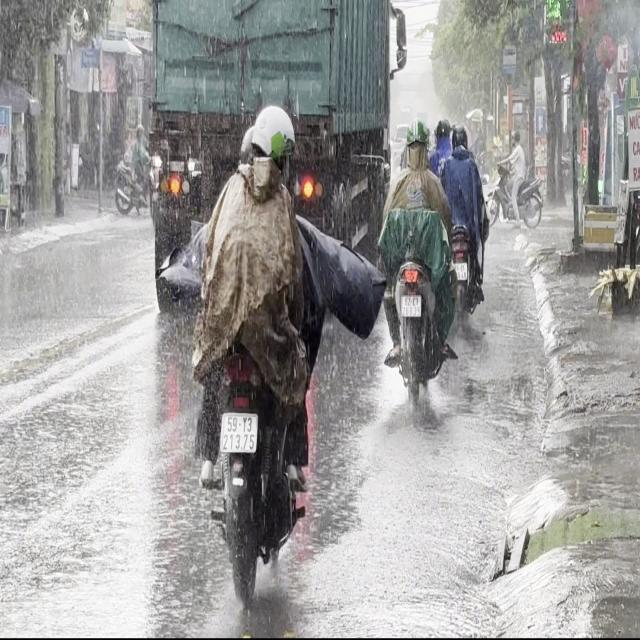helmet: (244, 103, 299, 199), (404, 117, 429, 164), (451, 122, 468, 150), (435, 116, 451, 144)
licenseplate: (188, 94, 376, 617), (374, 112, 456, 408), (438, 118, 488, 322)
nohelmet: (220, 413, 257, 452), (400, 294, 420, 316), (454, 262, 467, 278)
